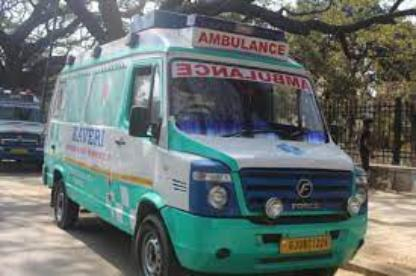priority: (44, 11, 366, 276)
